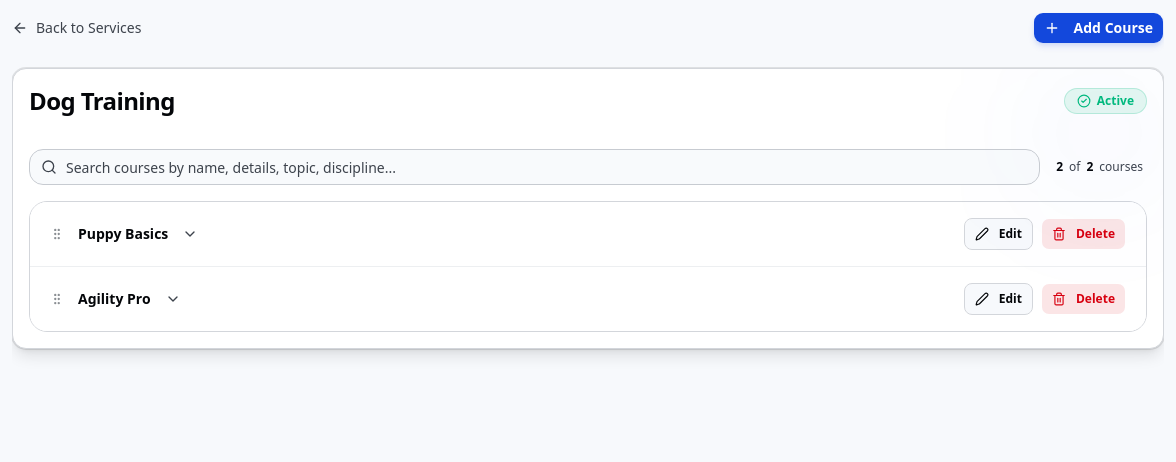
Test case: DashboardServiceDetail Component › should display pricing formatted with suffix according to priceType
The width and height of the screenshot is (1176, 462).
Click the button named "Expand" at (190, 234), box [178,222,202,246]
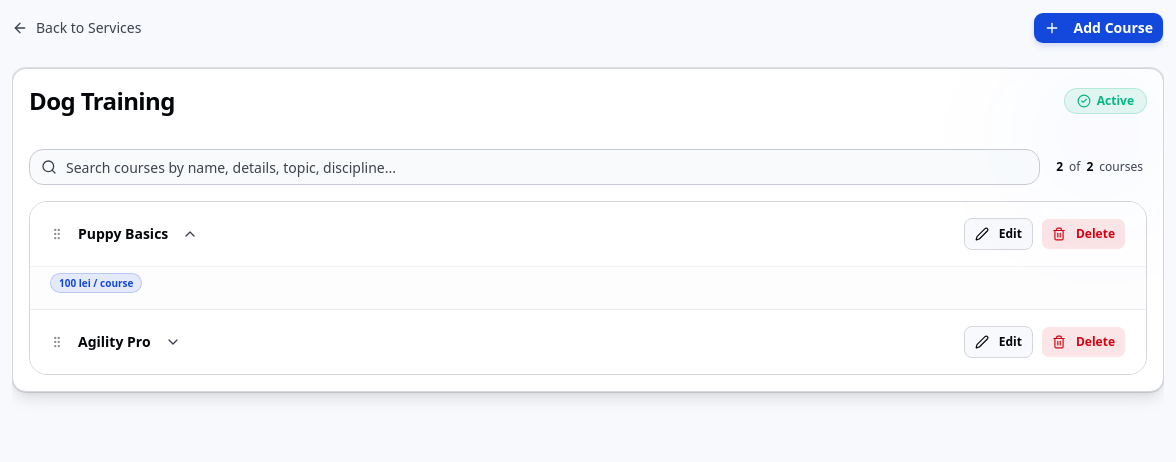
Click the button named "Expand" at (173, 342), box [161,330,185,354]
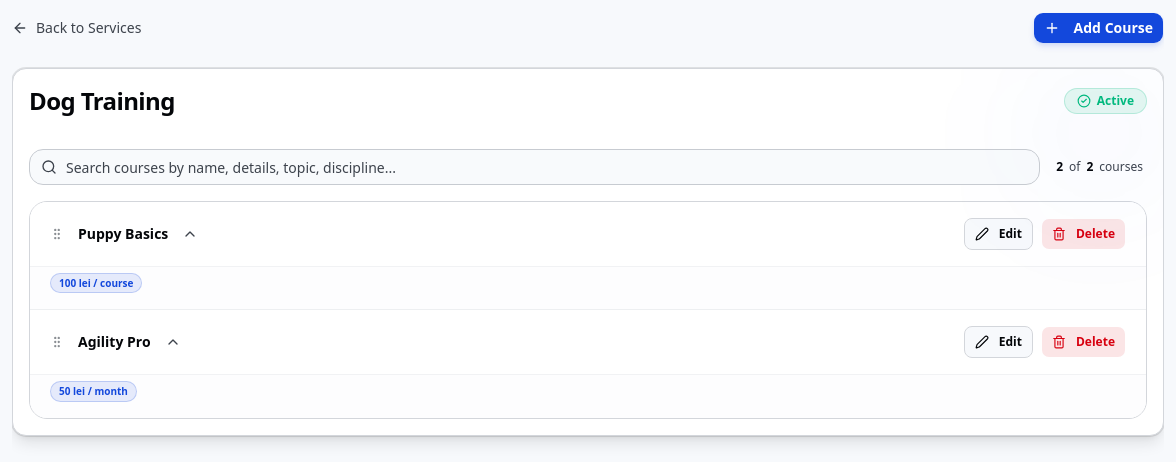
expect the text "100 lei / course" is shown: met, box [50,273,142,293]
expect the text "50 lei / month" is shown: met, box [50,381,137,402]
